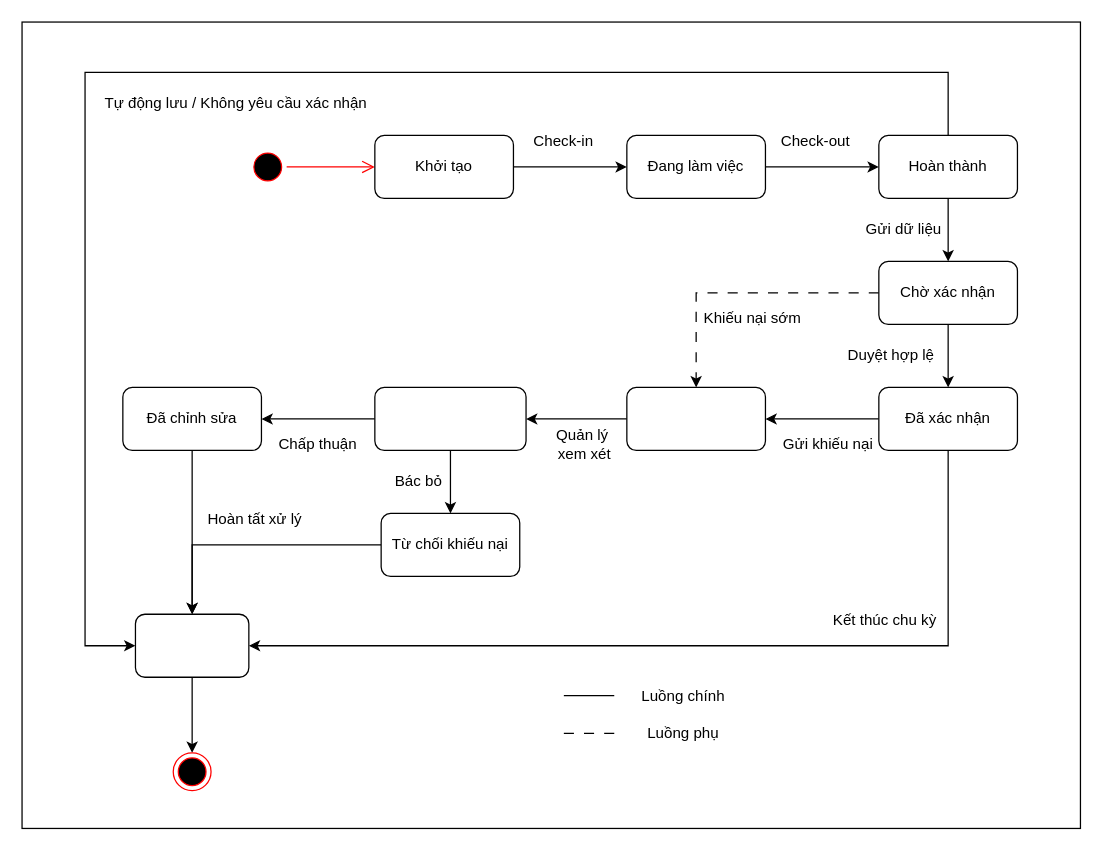
This 1103x851 diagram has some shape labels left out. Here are the shapes that lost their labels. From the top down, the centre of each, then its label:
At pixel 450 418: "Đang xử lí khiếu nại".
At pixel 695 418: "Bị khiếu nại".
At pixel 191 645: "Lưu trữ".
